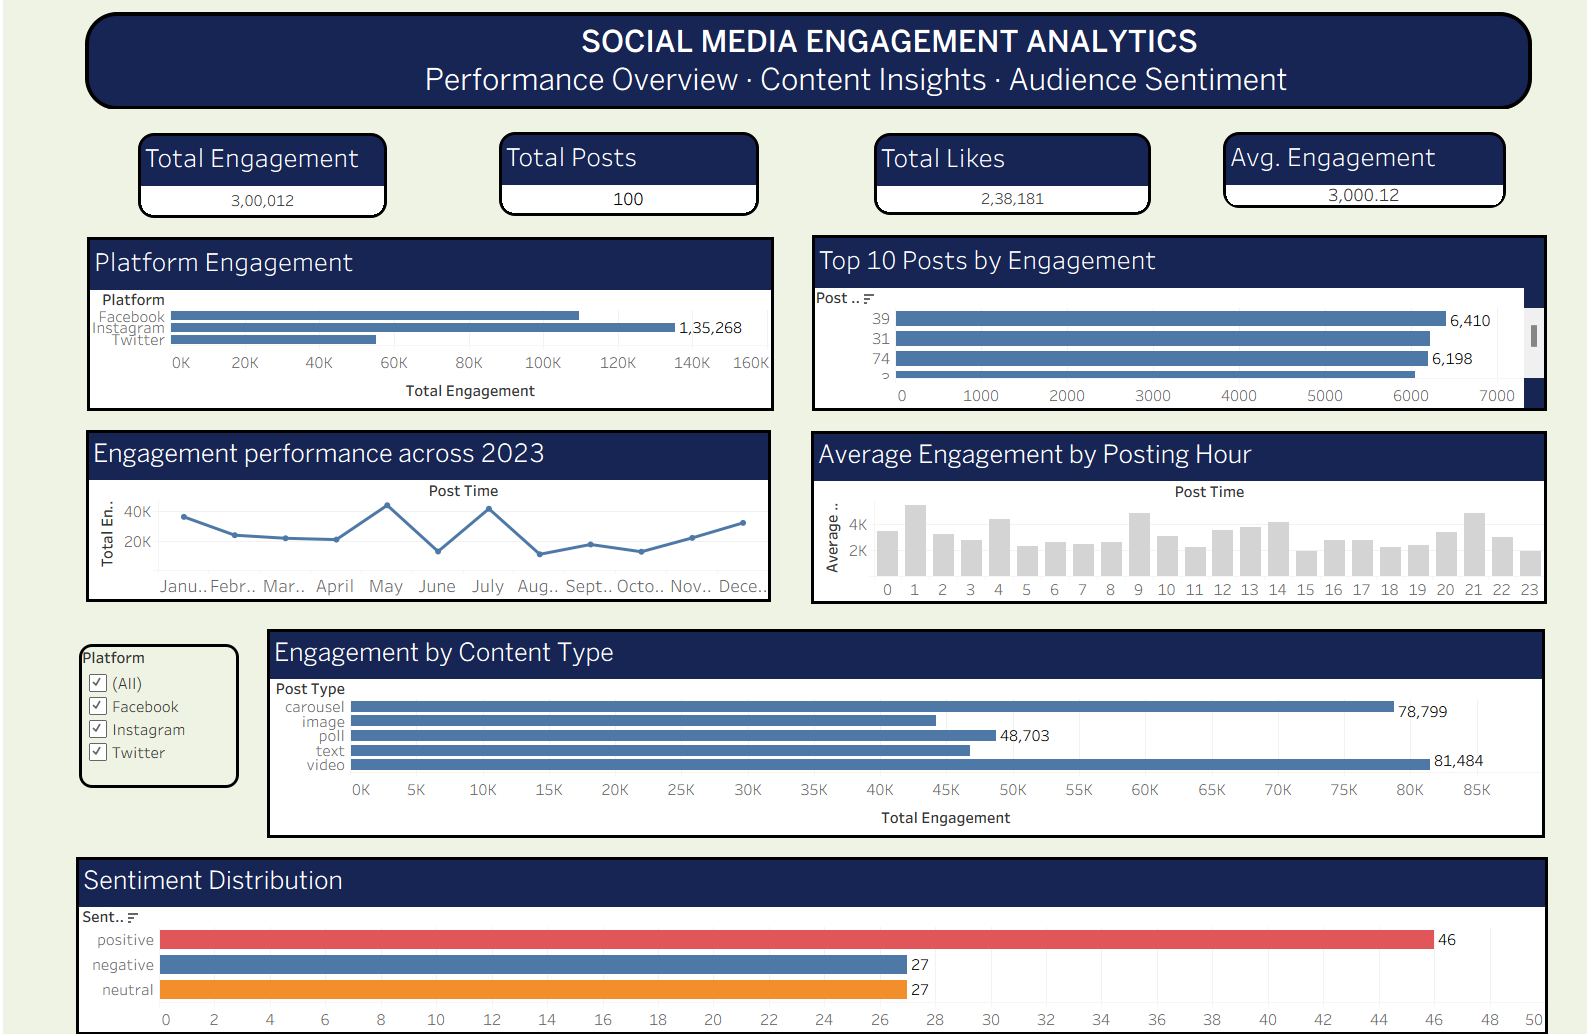

This screenshot's page, from the dashboard's own definition file:
{"tool":"tableau","page":{"name":"Dashboard 1","canvas":[1600,1200],"ordinal":0},"visuals":[{"type":"title","box":[90,20.6,1447,97.7]},{"type":"worksheet","title":"Total Posts","mark":"Automatic","box":[504,141,260,84]},{"type":"worksheet","title":"Avg. Engagement","mark":"Automatic","box":[1228,141.4,283,76.3]},{"type":"worksheet","title":"Total Engagement","mark":"Automatic","box":[143,142,249,85]},{"type":"worksheet","title":"Total Likes","mark":"Automatic","box":[879,142,277,82]},{"type":"worksheet","title":"Top 10 Posts by Engagement","mark":"Automatic","rows":["post_id"],"cols":["Calculation_0340358864080896"],"box":[817,244,735,176]},{"type":"worksheet","title":"Platform Engagement","mark":"Automatic","rows":["platform"],"cols":["Calculation_0340358864080896"],"box":[92,246,687,174]},{"type":"worksheet","title":"Monthly Engagement Trend","mark":"Line","rows":["Calculation_0340358864080896"],"cols":["post_time"],"box":[91,439,685,172]},{"type":"worksheet","title":"Engagement by Posting Time","mark":"Bar","rows":["Calculation_0340358864080896"],"cols":["post_time"],"box":[816,440,736,173]},{"type":"worksheet","title":"Content Type Engagement","mark":"Automatic","rows":["post_type"],"cols":["Calculation_0340358864080896"],"box":[272,638,1278,209]},{"type":"filter","title":"Platform Engagement","param":"[federated.0gcysyx0gij8qr1fgj8g71t5o5u0].[none:platform:nk]","box":[84,653,160,144]},{"type":"worksheet","title":"Sentiment Analysis","mark":"Automatic","rows":["sentiment_score"],"cols":["post_id"],"box":[81,866,1472,178]}]}

Visuals, with their boxes on the page's 1600x1200 design canvas (x1, y1, x2, y2). These are canvas units, not pixel positions in the 1592x1034 screenshot, which may show the page scaled, cropped or inside an application window:
title: (left=90, top=21, right=1537, bottom=118)
"Total Posts" worksheet: (left=504, top=141, right=764, bottom=225)
"Avg. Engagement" worksheet: (left=1228, top=141, right=1511, bottom=218)
"Total Engagement" worksheet: (left=143, top=142, right=392, bottom=227)
"Total Likes" worksheet: (left=879, top=142, right=1156, bottom=224)
"Top 10 Posts by Engagement" worksheet: (left=817, top=244, right=1552, bottom=420)
"Platform Engagement" worksheet: (left=92, top=246, right=779, bottom=420)
"Monthly Engagement Trend" worksheet (Line marks): (left=91, top=439, right=776, bottom=611)
"Engagement by Posting Time" worksheet (Bar marks): (left=816, top=440, right=1552, bottom=613)
"Content Type Engagement" worksheet: (left=272, top=638, right=1550, bottom=847)
"Platform Engagement" filter: (left=84, top=653, right=244, bottom=797)
"Sentiment Analysis" worksheet: (left=81, top=866, right=1553, bottom=1044)
